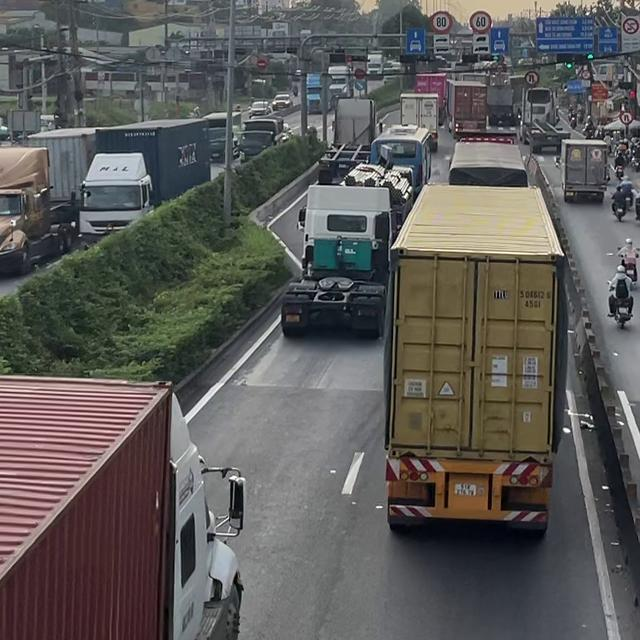bus: (369, 123, 431, 195)
car: (248, 100, 271, 117), (271, 93, 292, 110)
motorcycle: (605, 295, 638, 329), (618, 261, 639, 283), (611, 200, 629, 221), (614, 165, 624, 179)
truck: (0, 373, 245, 639), (382, 183, 567, 534), (280, 183, 395, 338), (81, 117, 211, 251), (0, 127, 95, 278), (317, 97, 376, 183), (341, 162, 413, 230), (448, 139, 529, 186), (519, 86, 570, 153), (557, 138, 609, 203), (399, 91, 439, 151), (445, 79, 487, 136), (236, 117, 288, 159), (414, 72, 447, 125), (326, 64, 351, 97), (366, 52, 384, 80), (459, 72, 489, 85)
